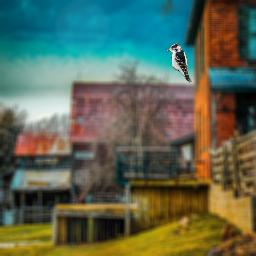Woodpecker: (165, 43, 192, 83)
